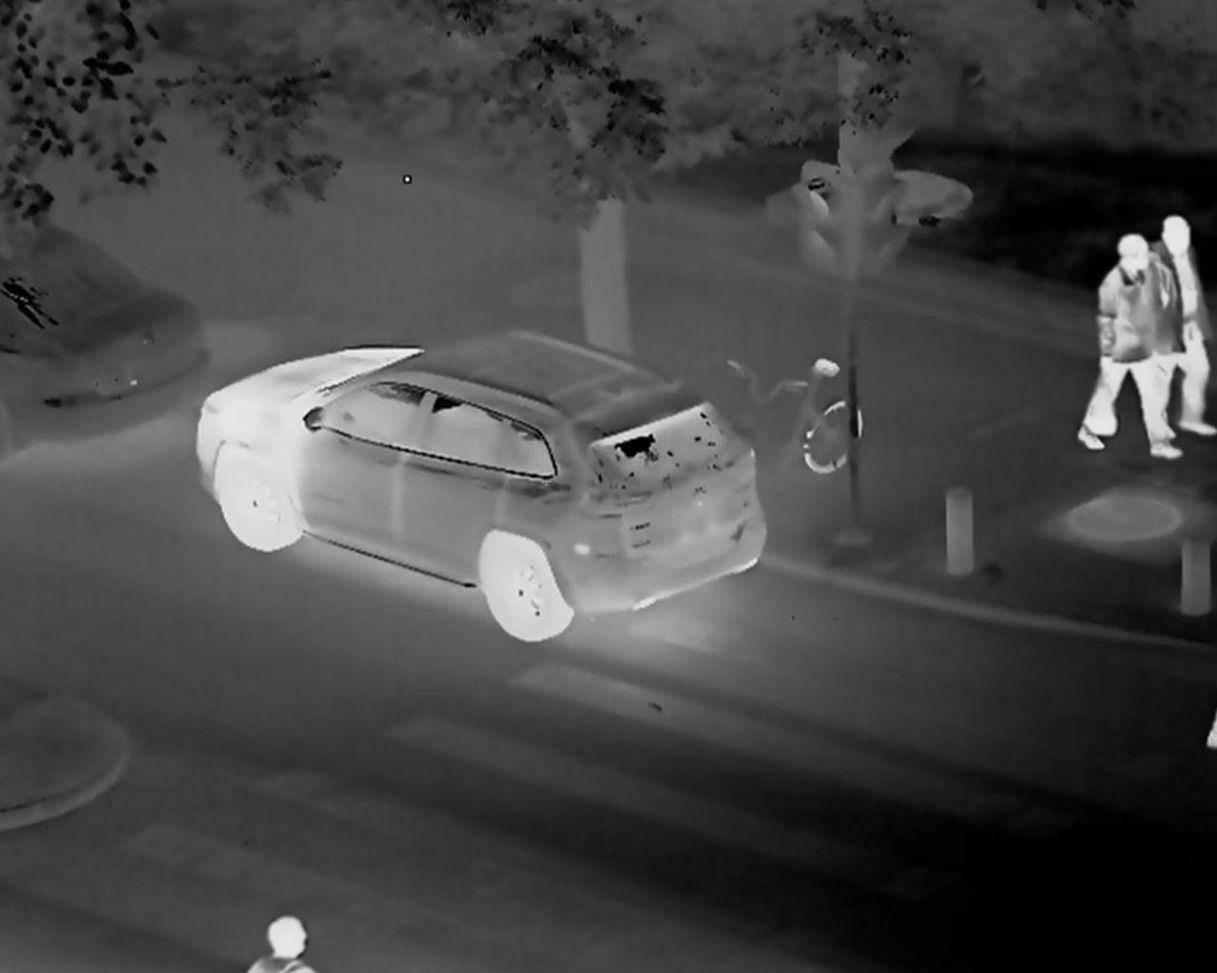person: (1078, 233, 1172, 457), (1142, 210, 1215, 435)
